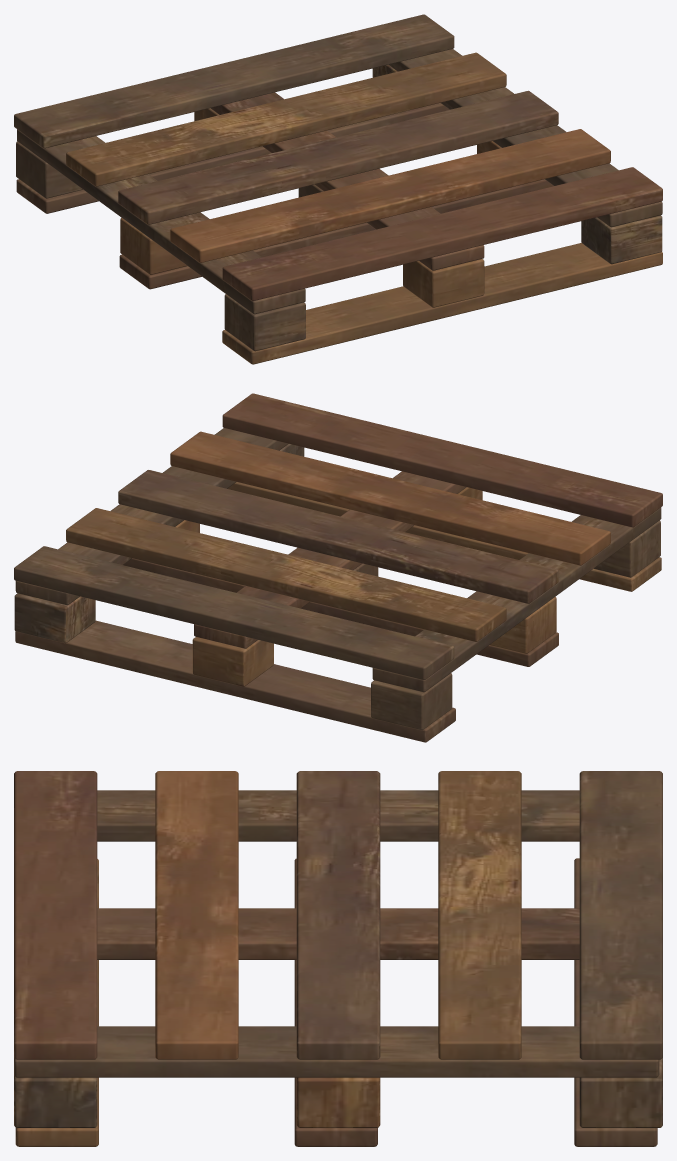
The model's file is pallet-transformed.glb.
3 views of the same model, one above another, from view 1: azimuth 30°, elevation 25°; view 2: azimuth 150°, elevation 25°; view 3: azimuth 270°, elevation 25° (orthographic). The views are drawn at different scales.
Visible parts, largest first — view 1: Object_2; view 2: Object_2; view 3: Object_2.
Boxes of the visible parts, <box> form: Object_2: <box>14,14,662,364</box>; Object_2: <box>14,393,662,742</box>; Object_2: <box>14,771,662,1146</box>.
Bounding box in the file's own units: 41.24 × 7.43 × 41.46.
1 material, 1 textured.
